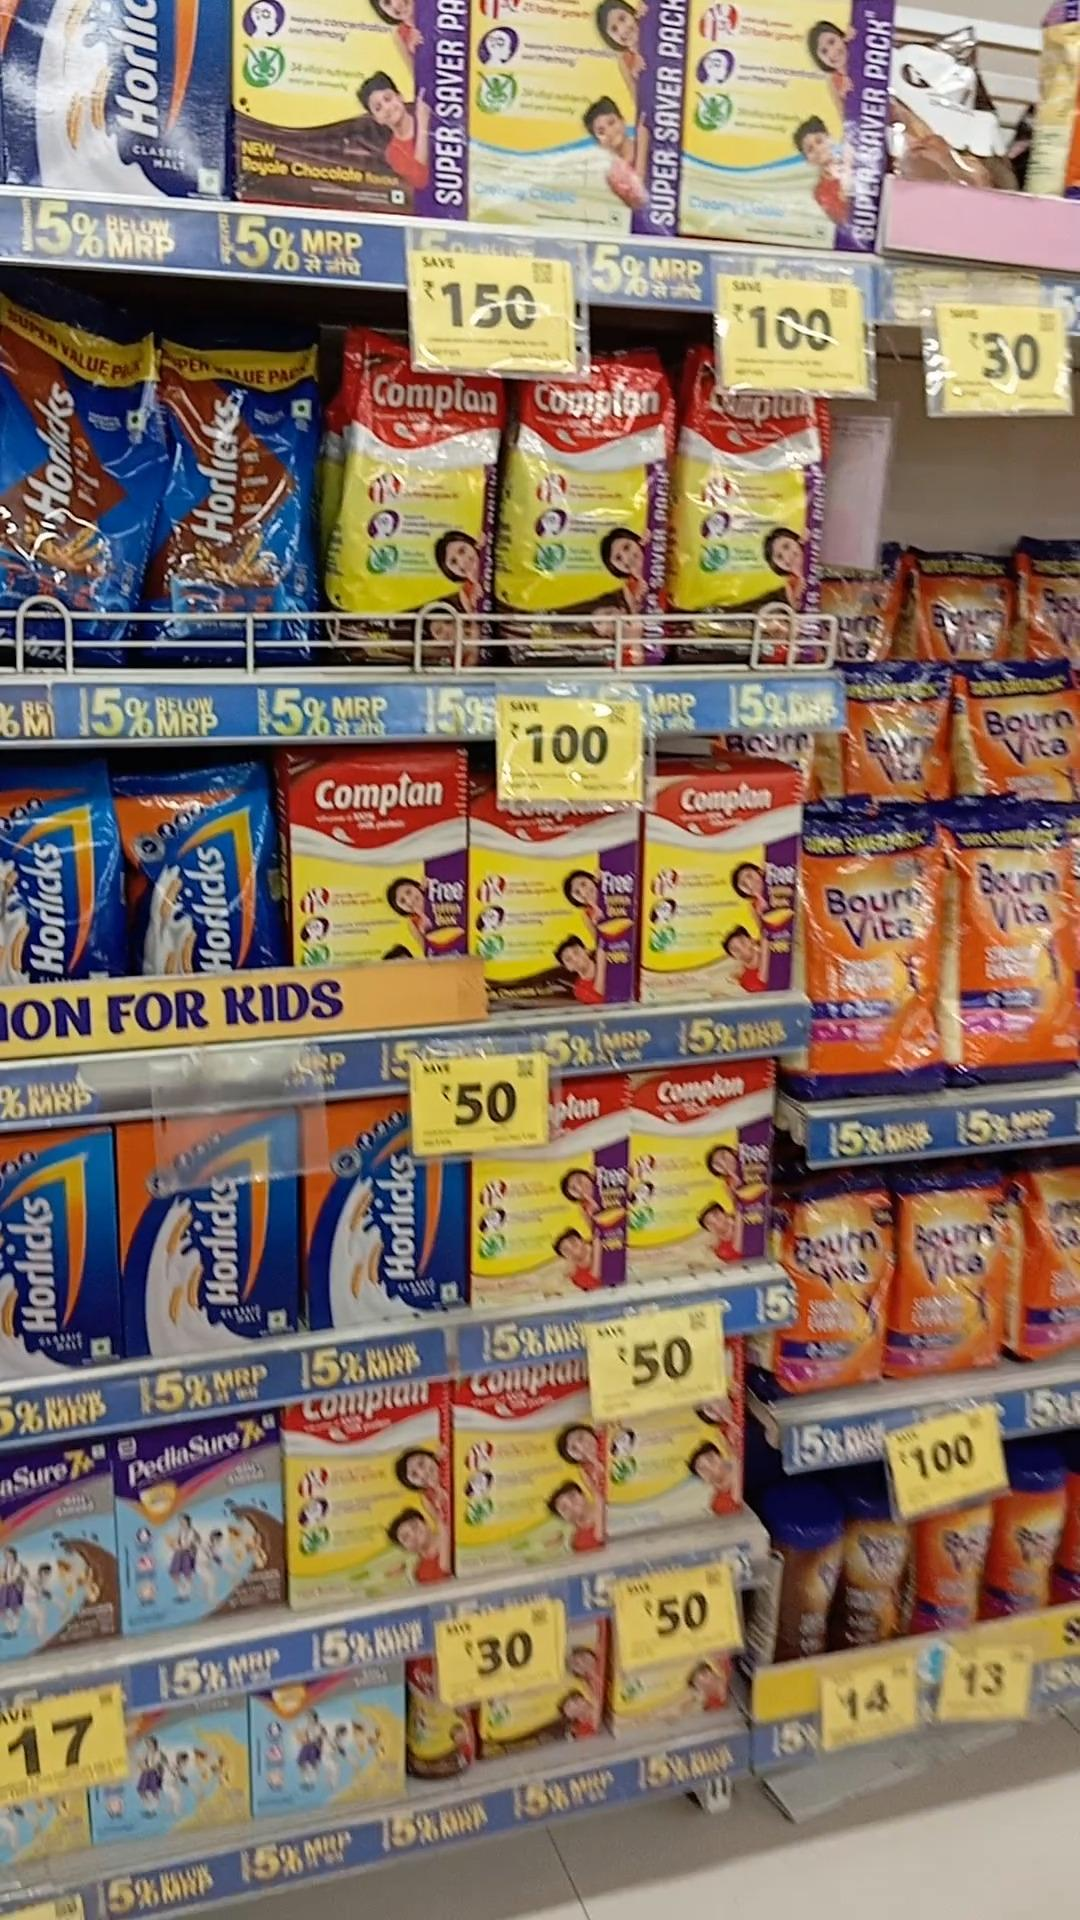BOURN_VITA_1_KG_POUCH: (807, 819, 942, 1091), (964, 822, 1080, 1084), (835, 650, 957, 803), (967, 657, 1080, 802)
BOURN_VITA_500_G_JAR: (998, 1461, 1069, 1617), (920, 1494, 992, 1633)
BOURN_VITA_750_G_POUCH: (785, 1185, 881, 1393), (898, 1180, 994, 1375), (996, 1168, 1080, 1370)
BOURN_VITA_FIVE_STAR_MAGIC_500_G_JAR: (845, 1498, 911, 1643)
COMPLAN_CHOCOLATE_1_KG_PACK: (231, 0, 463, 220)
COMPLAN_CHOCOLATE_500_GMS_PACK: (472, 793, 636, 1007), (294, 766, 463, 951)
COMPLAN_CREAMY_CLASSIC_500_G_PACK: (607, 1399, 733, 1532)
COMPLAN_KESAR_BADAM_500_GMS_PACK: (645, 781, 793, 997), (468, 1092, 607, 1307), (624, 1068, 766, 1276)
COMPLAN_PISTA_BADAM_500_GMS_PACK: (286, 1390, 451, 1596), (456, 1364, 599, 1568)
COMPLAN_RC_POUCH_700_GMS_12: (340, 355, 492, 671), (525, 357, 665, 669), (687, 347, 819, 654)
HORLICK_CHOCOLATE_750_G_POUCH: (156, 338, 309, 657), (0, 318, 136, 663)
HORLICK_CLASSIC_MALT_500_G_PACK: (121, 1118, 290, 1360), (299, 1096, 456, 1324), (0, 1129, 119, 1366)
HORLICK_CLASSIC_MALT_750_G_POUCH: (132, 767, 270, 982), (0, 764, 113, 981)
PEDIASURE_7_PLUS_CHOCOLATE_400_G_PACK: (129, 1414, 277, 1613), (0, 1440, 125, 1656)
